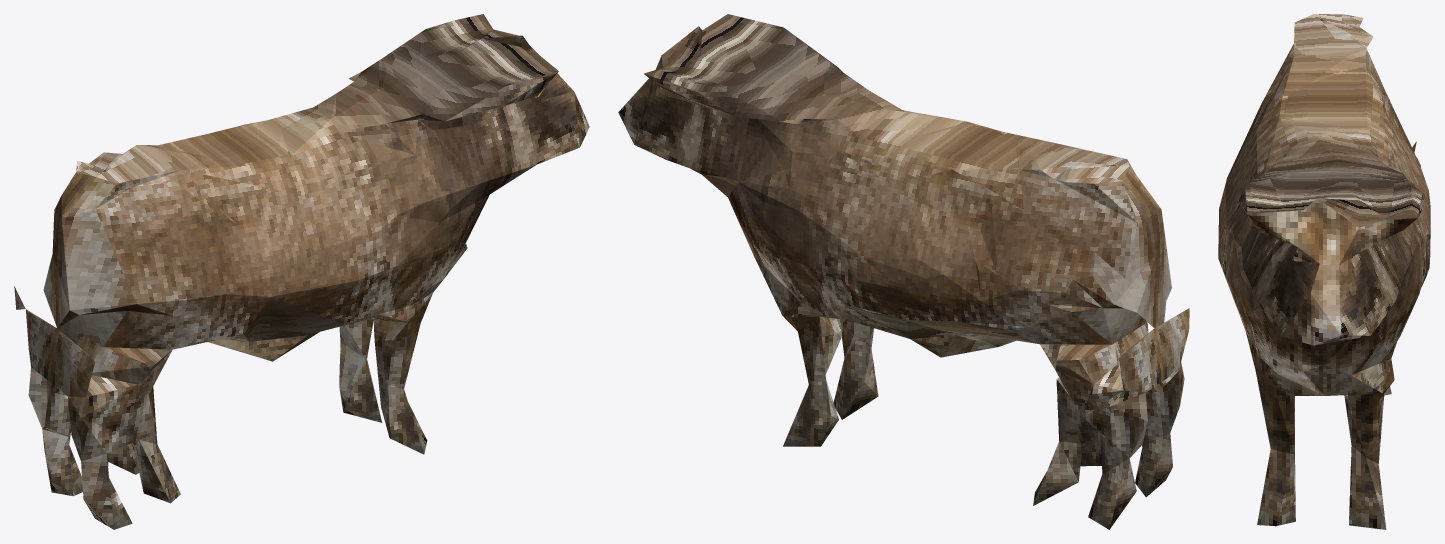
File: animal.ganado.vaca.glb
3 views of the same model, side by side, from view 1: azimuth 30°, elevation 25°; view 2: azimuth 150°, elevation 25°; view 3: azimuth 270°, elevation 25° (orthographic). The views are drawn at different scales.
Visible parts, largest first — view 1: animal.ganado.vaca; view 2: animal.ganado.vaca; view 3: animal.ganado.vaca.
Boxes of the visible parts, x1,y1,x2,y2 form: animal.ganado.vaca: (14,14,589,529); animal.ganado.vaca: (618,14,1189,529); animal.ganado.vaca: (1218,14,1430,529).
Bounding box in the file's own units: 2.68 × 1.77 × 0.8557.
Materials: 1 (1 with a texture image).
